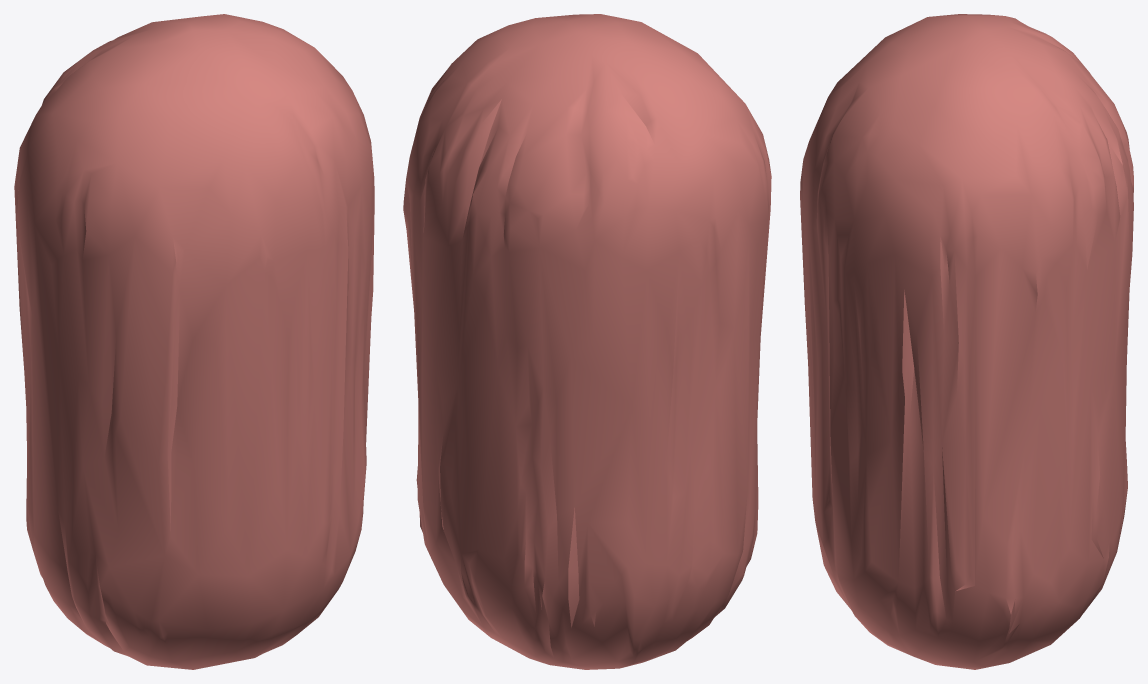
The model's file is fma46733_fj2762.glb.
The picture shows the model from 3 angles, left to right: view 1: azimuth 30°, elevation 25°; view 2: azimuth 150°, elevation 25°; view 3: azimuth 270°, elevation 25°; orthographic projection.
Parts seen in each view (by area): view 1: FMA46733_FJ2762; view 2: FMA46733_FJ2762; view 3: FMA46733_FJ2762.
Part boxes in pixels (x1=…): FMA46733_FJ2762: x1=14, y1=14, x2=374, y2=669; FMA46733_FJ2762: x1=403, y1=14, x2=771, y2=669; FMA46733_FJ2762: x1=800, y1=14, x2=1133, y2=669.
Bounding box in the file's own units: 0.005 × 0.00929 × 0.00451.
